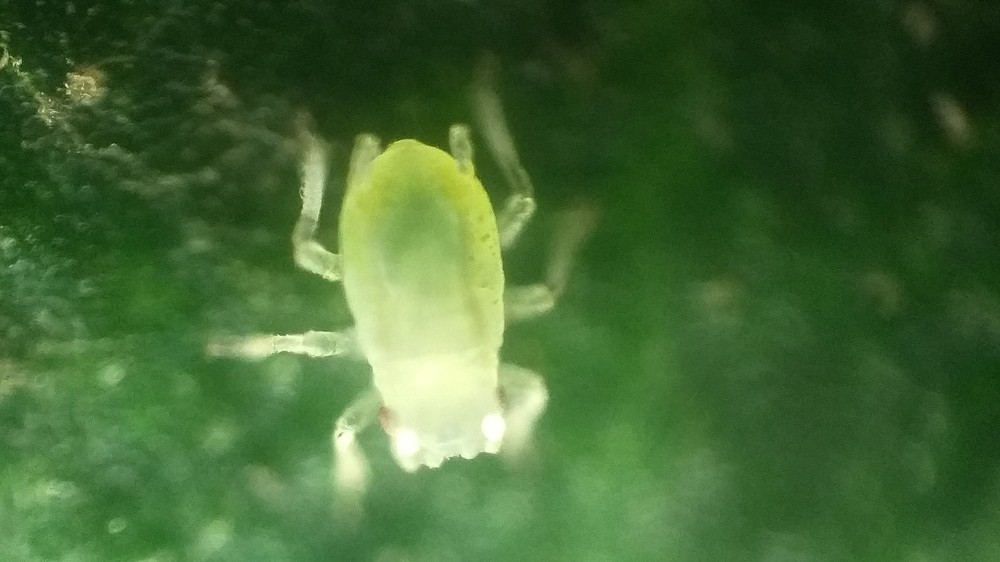Pulgon: (207, 76, 650, 535)
